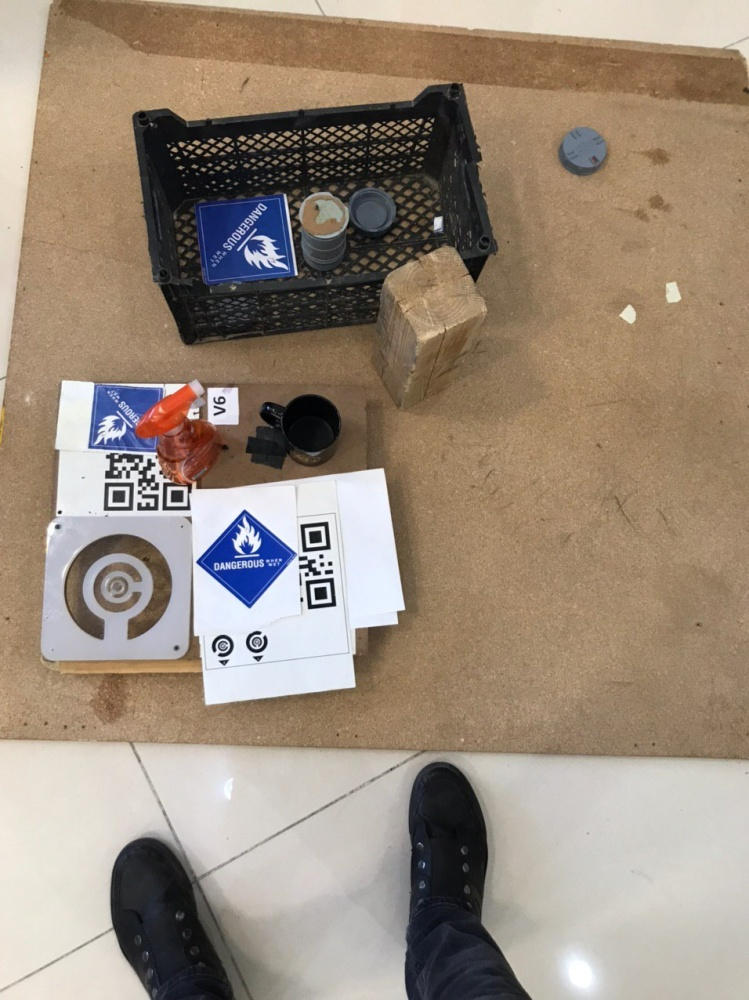Dangerous when wet: (196, 510, 297, 609), (195, 193, 298, 285), (88, 384, 164, 455)
